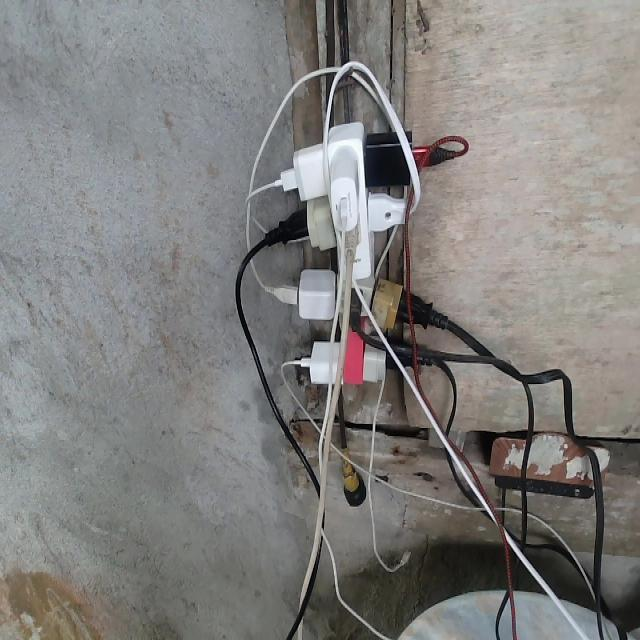-: (262, 121, 431, 388)
